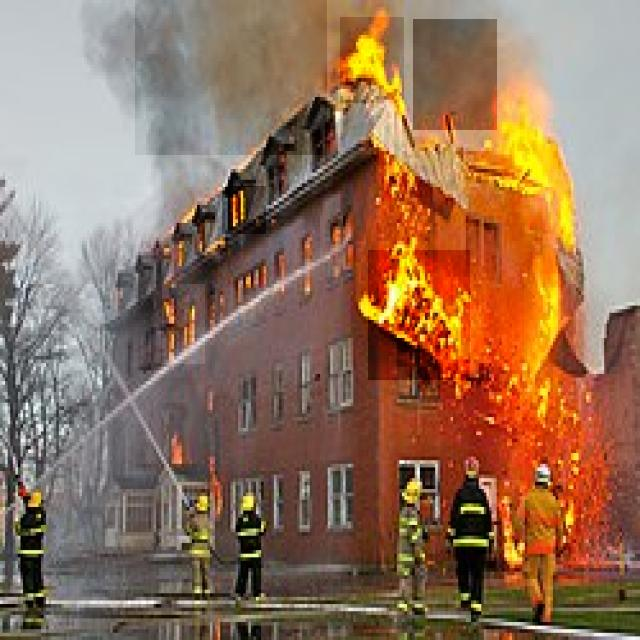Fire: (496, 101, 603, 270), (368, 250, 470, 380), (340, 18, 404, 104), (524, 274, 563, 396), (490, 480, 525, 586), (162, 284, 205, 364), (222, 186, 266, 234)
Smoke: (135, 0, 327, 155), (413, 19, 497, 130)
